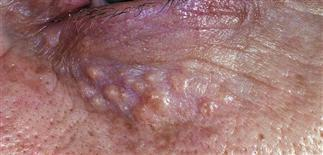blackhead: (37, 72, 52, 98)
syringoma: (77, 55, 210, 122)
